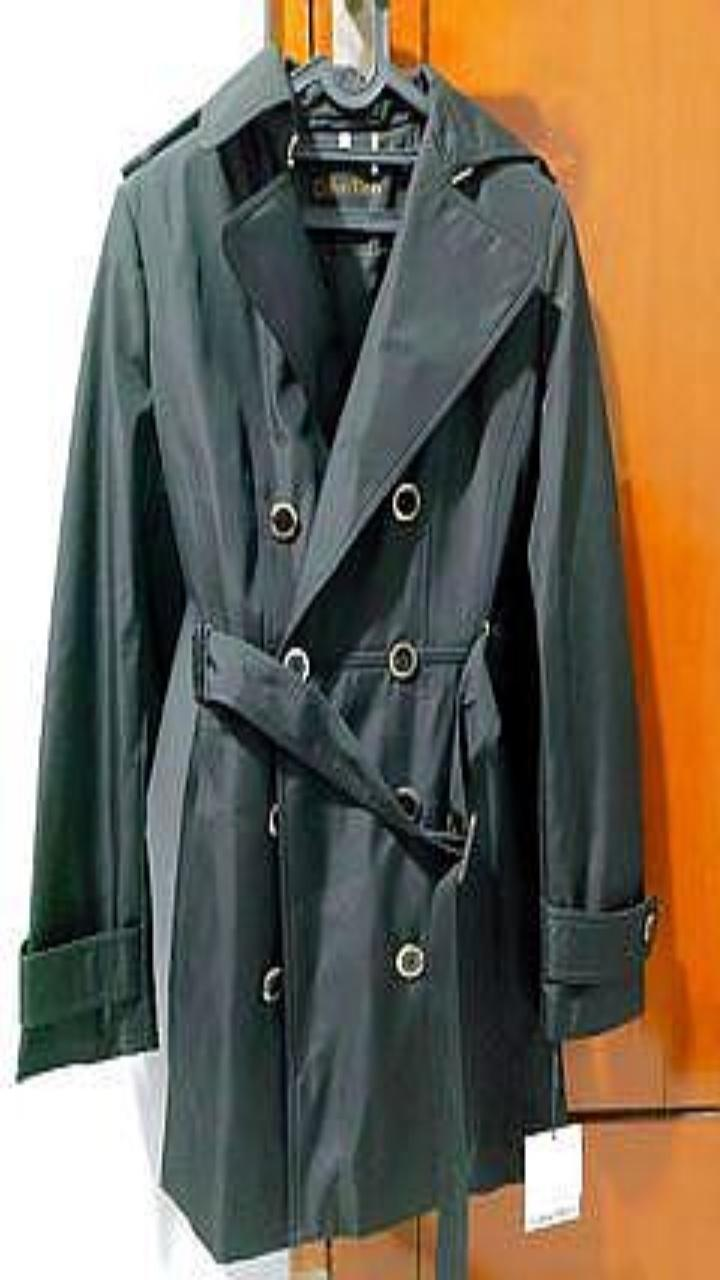Coat: (17, 43, 656, 1277)
